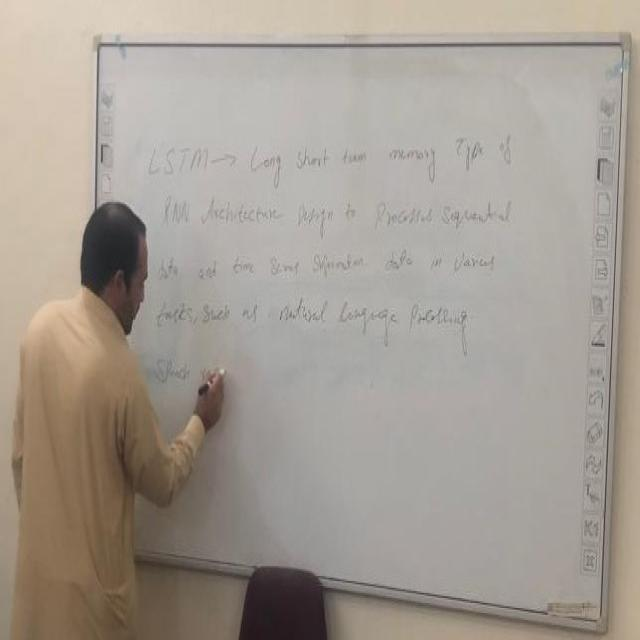Instructor: (18, 166, 150, 632)
White-board: (84, 36, 628, 631)
